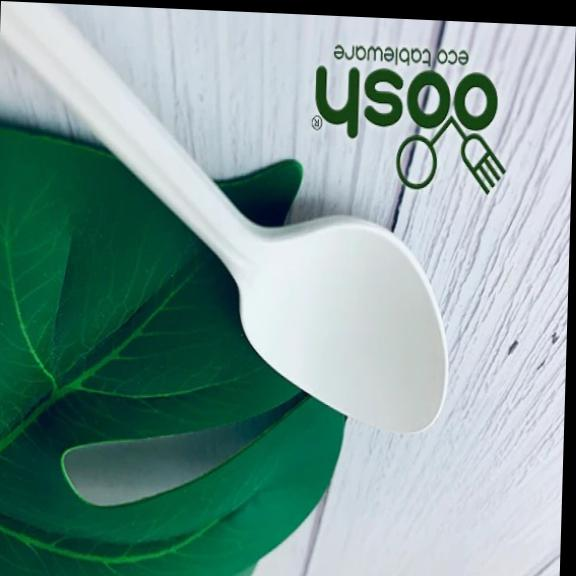Plastik: (0, 1, 447, 431)
